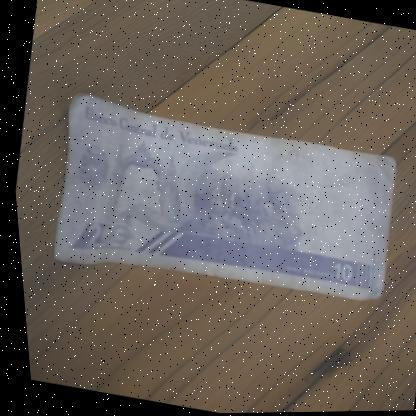ten-back-vef: (37, 88, 404, 318)
